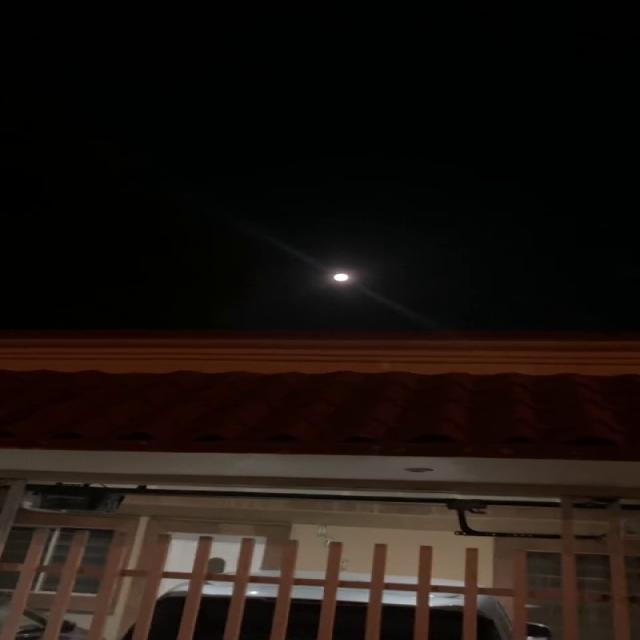moon: (322, 270, 367, 288)
